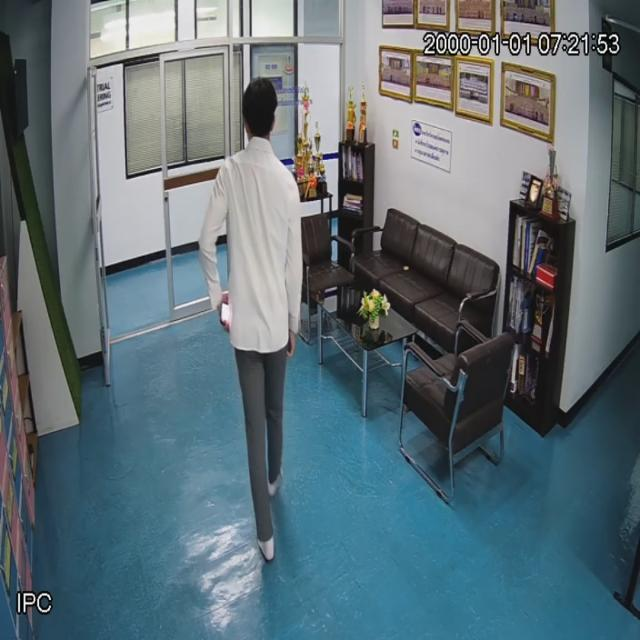normal: (202, 73, 304, 574)
